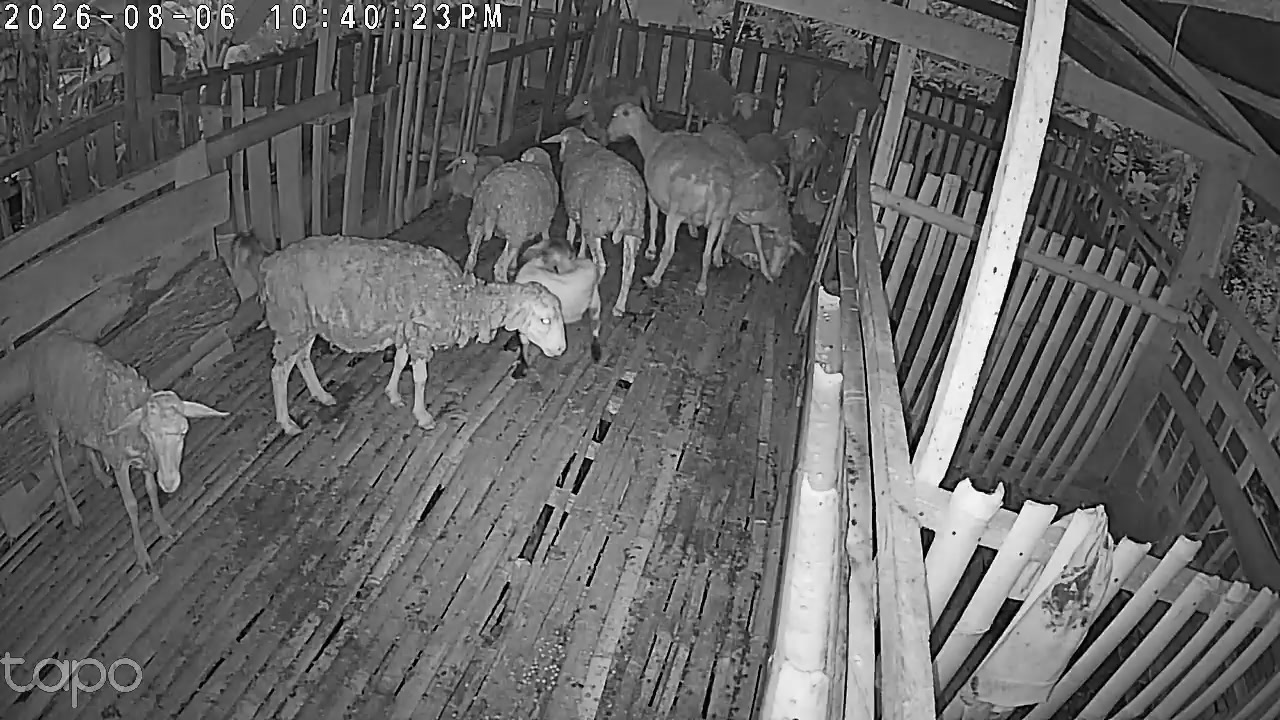sheep: (235, 230, 570, 435), (20, 330, 230, 570), (605, 100, 800, 290), (545, 125, 650, 315), (460, 148, 560, 288), (510, 240, 605, 335)
